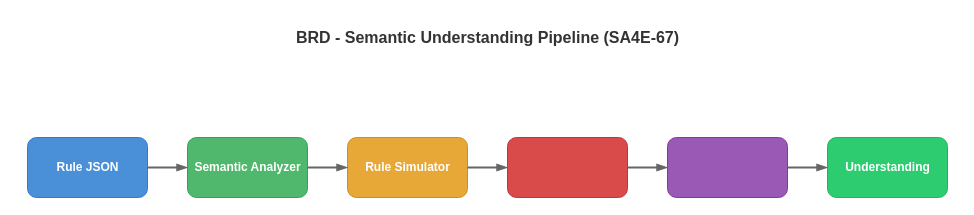
Some shapes in this 974 by 215 pixel diagram are drawn without their labels. The shapes that lost their labels are listed below. From the top down, each one's box as (x1, y1, x2, y2) in pixels, then its label:
(506, 136, 628, 198): Reference Extractor
(666, 136, 788, 198): Impact Analyzer
